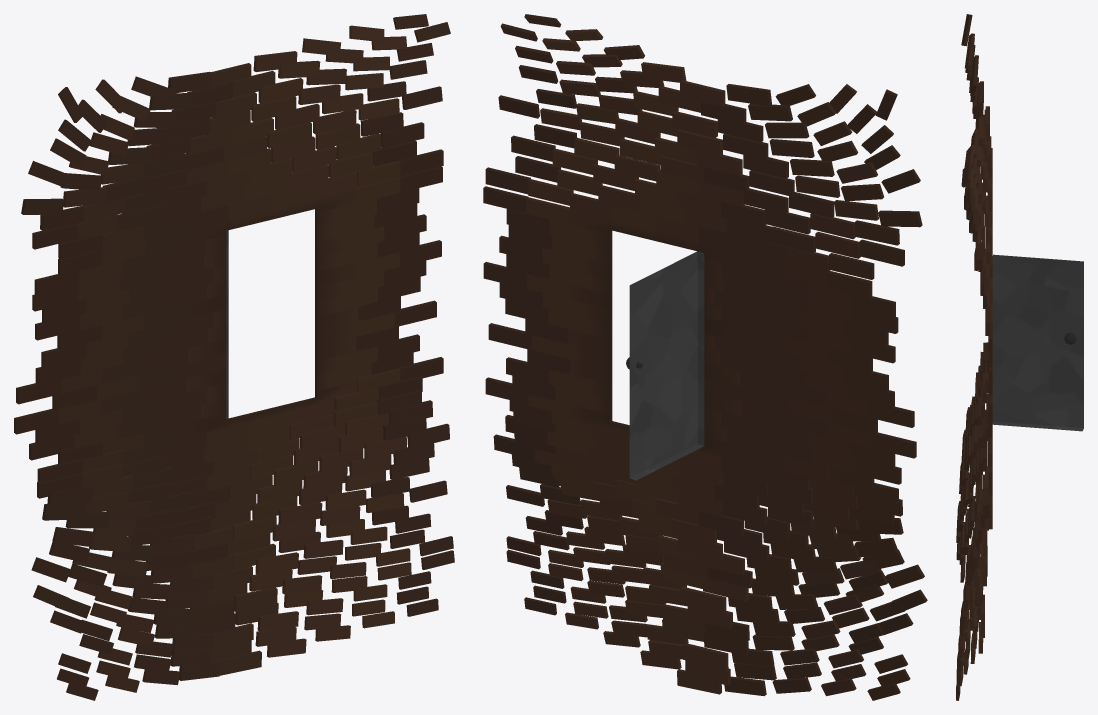
File: DoorWay.glb
3 renders of one model, left to right at view 1: azimuth 30°, elevation 25°; view 2: azimuth 150°, elevation 25°; view 3: azimuth 270°, elevation 25°, orthographic. The views are drawn at different scales.
Parts seen in each view (by area): view 1: Cube.1098; view 2: Cube.1098; view 3: Cube.1098.
Boxes of the visible parts, x1=… form: Cube.1098: x1=14, y1=14, x2=454, y2=700; Cube.1098: x1=483, y1=14, x2=927, y2=700; Cube.1098: x1=956, y1=14, x2=1083, y2=700.
Size of the model in its own units: 14.97 by 21.22 by 4.44.
Materials: 1 (1 with a texture image).
